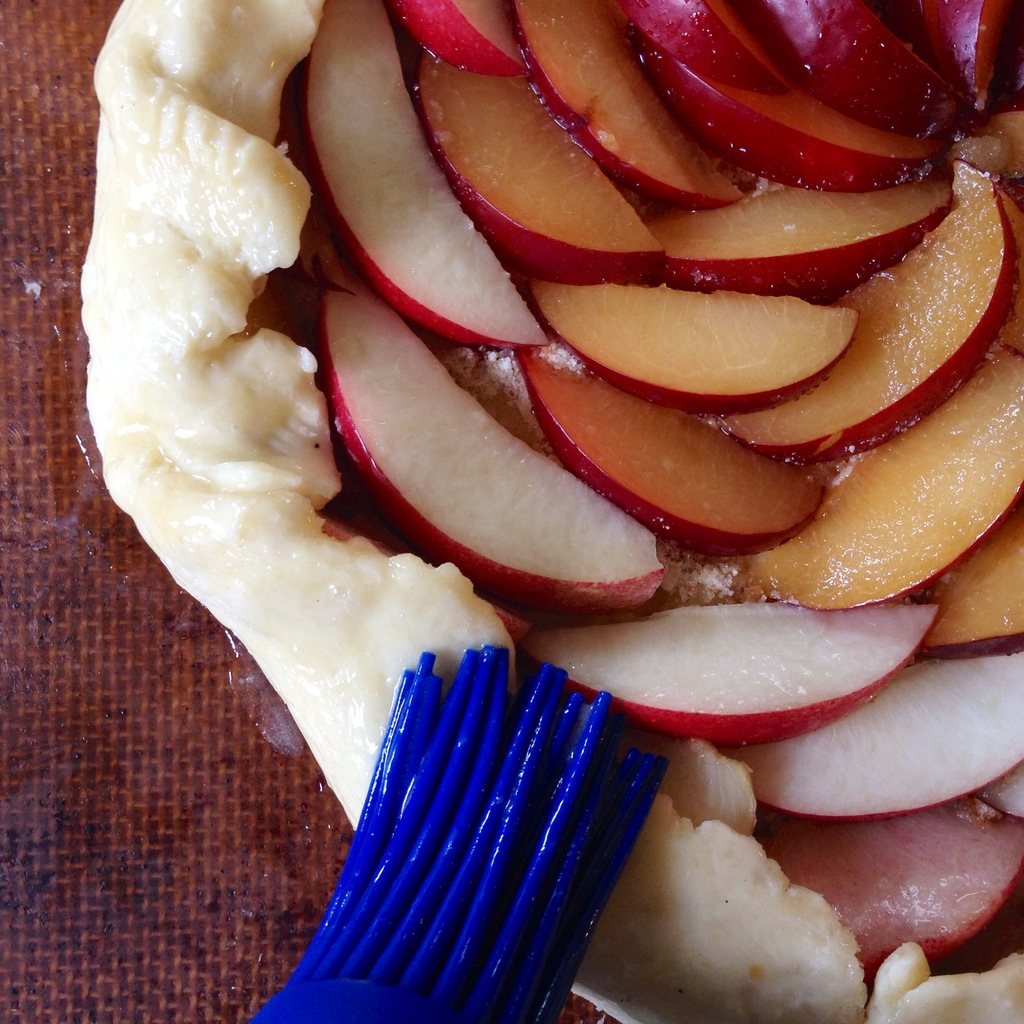Apple: (304, 0, 1023, 963), (302, 0, 544, 348)
